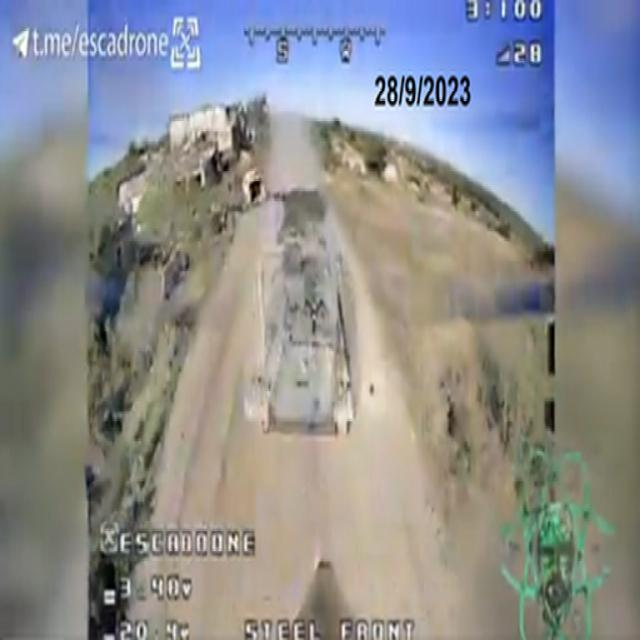APC-IFV: (248, 209, 362, 433)
